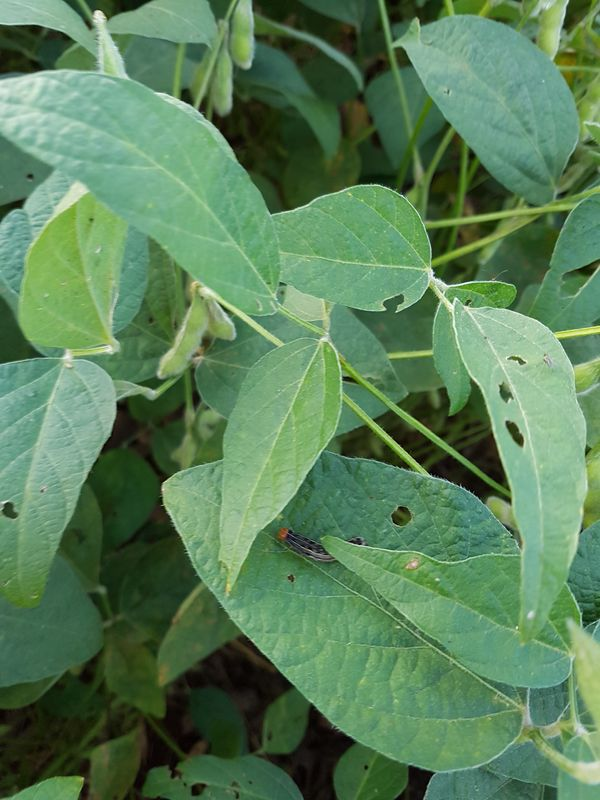Spodoptera_albula: (261, 514, 374, 579)
